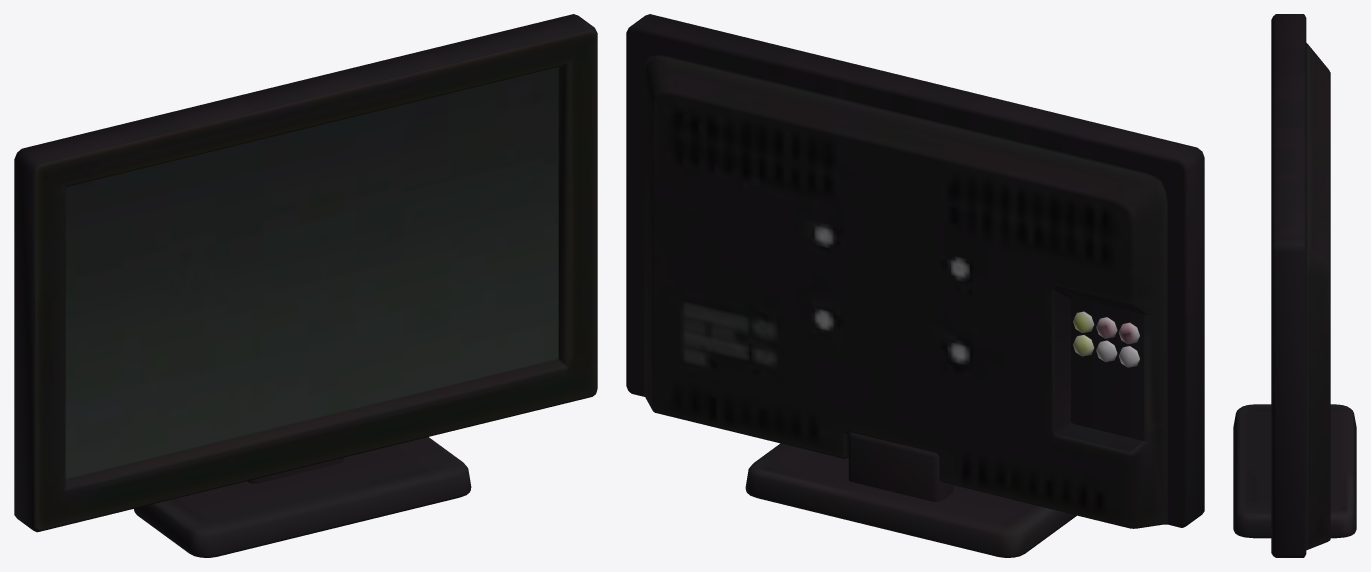
3 renders of one model, left to right at view 1: azimuth 30°, elevation 25°; view 2: azimuth 150°, elevation 25°; view 3: azimuth 270°, elevation 25°, orthographic. The views are drawn at different scales.
Bounding box in the file's own units: 9.49 × 6.67 × 2.11.
Materials: 2 (2 with a texture image).
